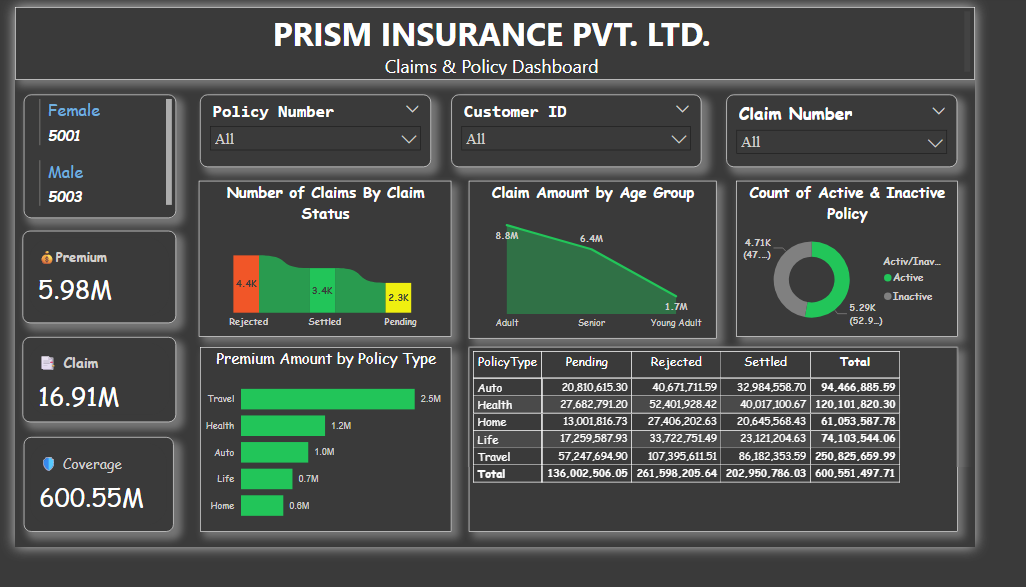

This screenshot's page, from the dashboard's own definition file:
{"tool":"powerbi","page":{"name":"Page 1","canvas":[1280,720],"ordinal":0},"visuals":[{"type":"slicer","fields":{"Values":["InsuranceData.ClaimNumber"]},"box":[881.7,113.3,381.7,96.7],"z":0},{"type":"slicer","fields":{"Values":["InsuranceData.PolicyNumber"]},"box":[0,113.3,408.3,96.7],"z":1000},{"type":"slicer","fields":{"Values":["InsuranceData.CustomerID"]},"box":[435,113.3,386.7,96.7],"z":2000},{"type":"textbox","box":[0,0,1280,76.7],"z":3000},{"type":"cardVisual","fields":{"Data":["Sum(InsuranceData.PremiumAmount)"]},"box":[0,236.7,230,123.3],"z":4000},{"type":"cardVisual","fields":{"Data":["Sum(InsuranceData.CoverageAmount)"]},"box":[5,510,225,126.7],"z":5000},{"type":"cardVisual","fields":{"Data":["Sum(InsuranceData.ClaimAmount)"]},"box":[0,381.7,230,113.3],"z":6000},{"type":"multiRowCard","fields":{"Values":["InsuranceData.Gender","CountNonNull(InsuranceData.Gender)"]},"box":[286.7,236.7,133.3,181.7],"z":7000},{"type":"ribbonChart","title":"Number of Claims By Claim Status","fields":{"Category":["InsuranceData.ClaimStatus"],"Y":["CountNonNull(InsuranceData.ClaimStatus)"]},"box":[435,237,387,182],"z":8000},{"type":"barChart","title":"Premium Amount by Policy Type","fields":{"Category":["InsuranceData.PolicyType"],"Y":["Sum(InsuranceData.PremiumAmount)"]},"box":[882,237,382,182],"z":9000},{"type":"lineChart","title":"Claim Amount by Age Group","fields":{"Category":["InsuranceData.Age Group"],"Y":["Sum(InsuranceData.ClaimAmount)"]},"box":[275,438.3,330,238.3],"z":10000},{"type":"donutChart","title":"Count of Active & Inactive Policy","fields":{"Category":["InsuranceData.Activ/Inavtive"],"Y":["CountNonNull(InsuranceData.Activ/Inavtive)"]},"box":[640,438.3,295,238.3],"z":11000},{"type":"pivotTable","fields":{"Rows":["InsuranceData.PolicyType"],"Columns":["InsuranceData.ClaimStatus"],"Values":["Sum(InsuranceData.CoverageAmount)"]},"box":[968,438,296,238],"z":12000}]}

Visuals, with their boxes in screenshot pixels (x1, y1, x2, y2), scaled from the page's 1280x720 canvas onto the 1026x587 screenshot:
slicer - InsuranceData.ClaimNumber: x1=707 y1=92 x2=1013 y2=171
slicer - InsuranceData.PolicyNumber: x1=0 y1=92 x2=327 y2=171
slicer - InsuranceData.CustomerID: x1=349 y1=92 x2=659 y2=171
textbox: x1=0 y1=0 x2=1025 y2=63
cardVisual - Sum(InsuranceData.PremiumAmount): x1=0 y1=193 x2=184 y2=294
cardVisual - Sum(InsuranceData.CoverageAmount): x1=4 y1=416 x2=184 y2=519
cardVisual - Sum(InsuranceData.ClaimAmount): x1=0 y1=311 x2=184 y2=404
multiRowCard - InsuranceData.Gender x CountNonNull(InsuranceData.Gender): x1=230 y1=193 x2=337 y2=341
"Number of Claims By Claim Status" ribbonChart: x1=349 y1=193 x2=659 y2=342
"Premium Amount by Policy Type" barChart: x1=707 y1=193 x2=1013 y2=342
"Claim Amount by Age Group" lineChart: x1=220 y1=357 x2=485 y2=552
"Count of Active & Inactive Policy" donutChart: x1=513 y1=357 x2=749 y2=552
pivotTable - InsuranceData.PolicyType x InsuranceData.ClaimStatus: x1=776 y1=357 x2=1013 y2=551
